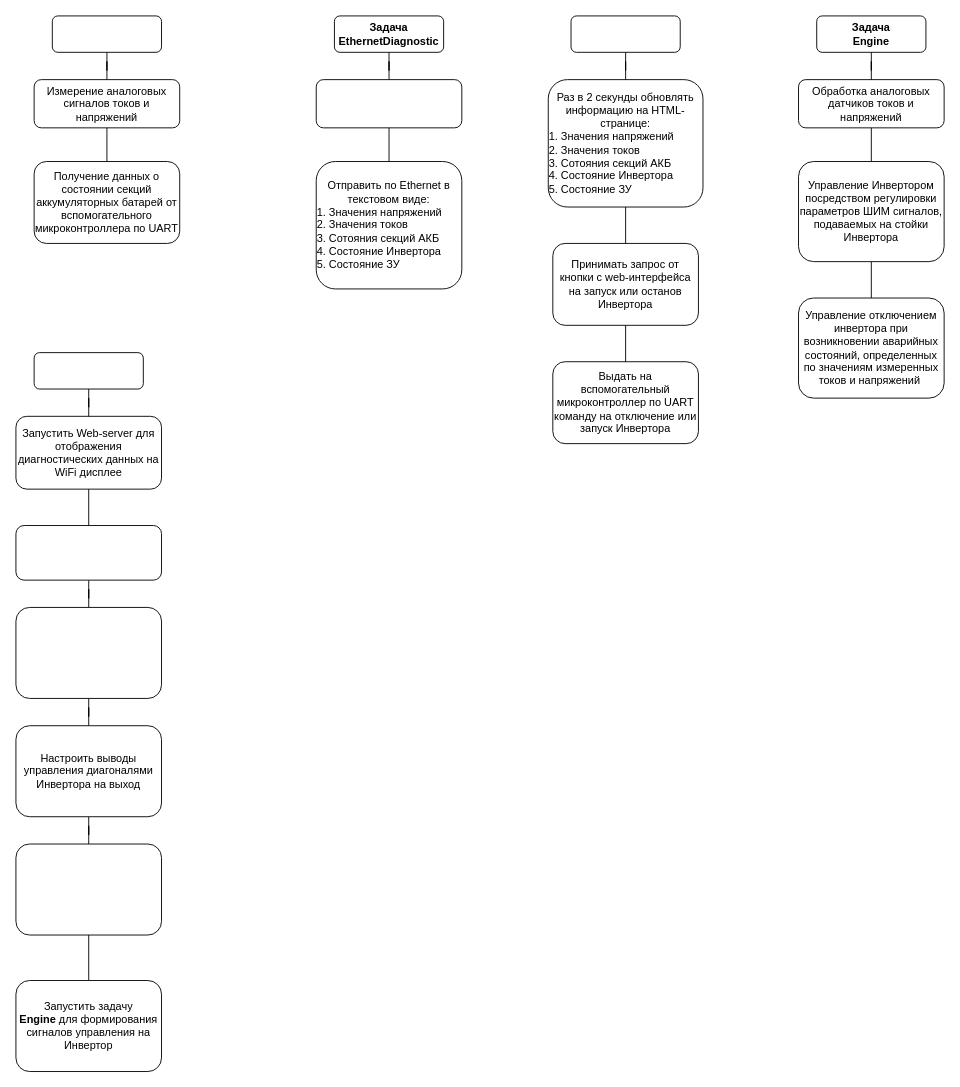
This 960x1087 diagram has some shape labels left out. The shapes that lost their labels are listed below. From the top down, each one's centre as x and y in pixels, then its label:
the point at 106,33: Задача StateAcquisition
the point at 625,33: Задача DisplayDiagnostic
the point at 388,103: Получить команду на отправку диагностических данных по Ethernet
the point at 88,370: Блок запуска Init()
the point at 88,552: Запустить сервис приема запросов по Ethernet
the point at 88,652: Настроить интерфейс UART на обмен данными с вспомогательнвм микроконтроллером
the point at 88,889: Настроить АЦП на измерение аналоговых сигналов токов и напряжений
